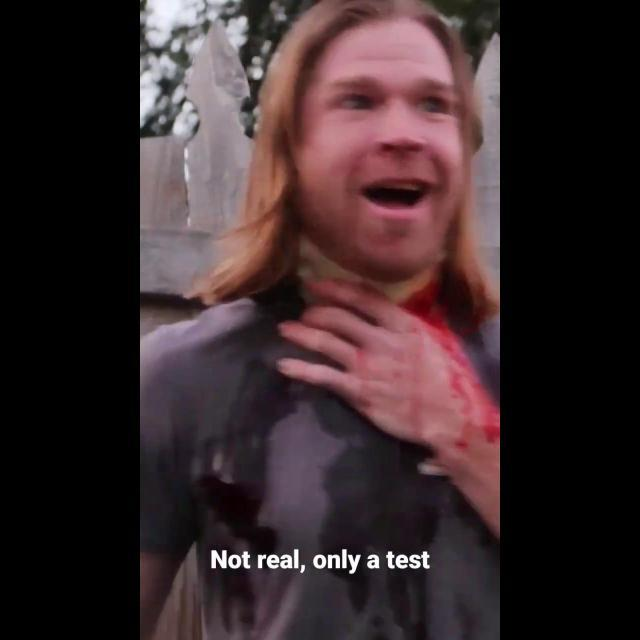blood: (383, 280, 500, 484)
